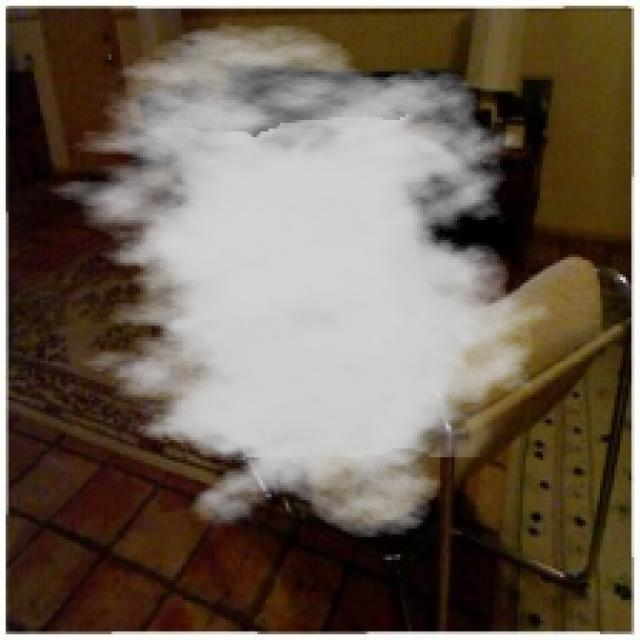smoke: (26, 23, 560, 540)
